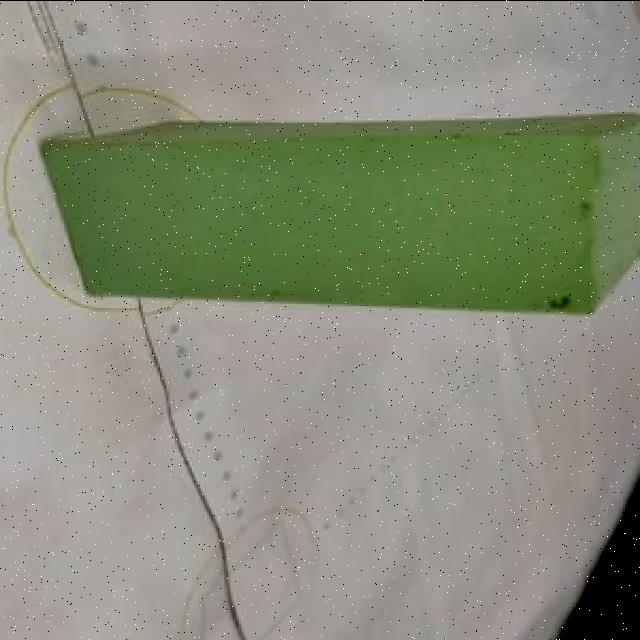greenbox: (41, 120, 640, 314)
